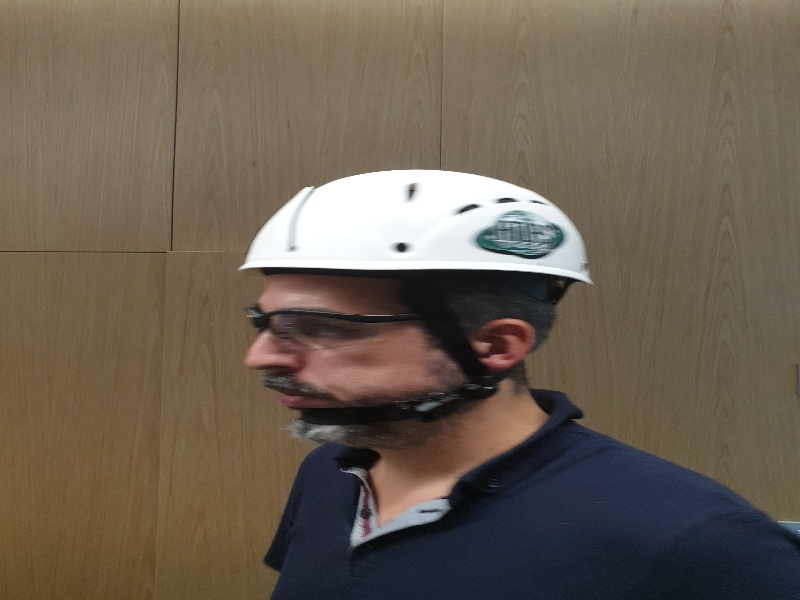Baret: (239, 167, 595, 285)
Gozluk: (244, 302, 443, 343)
